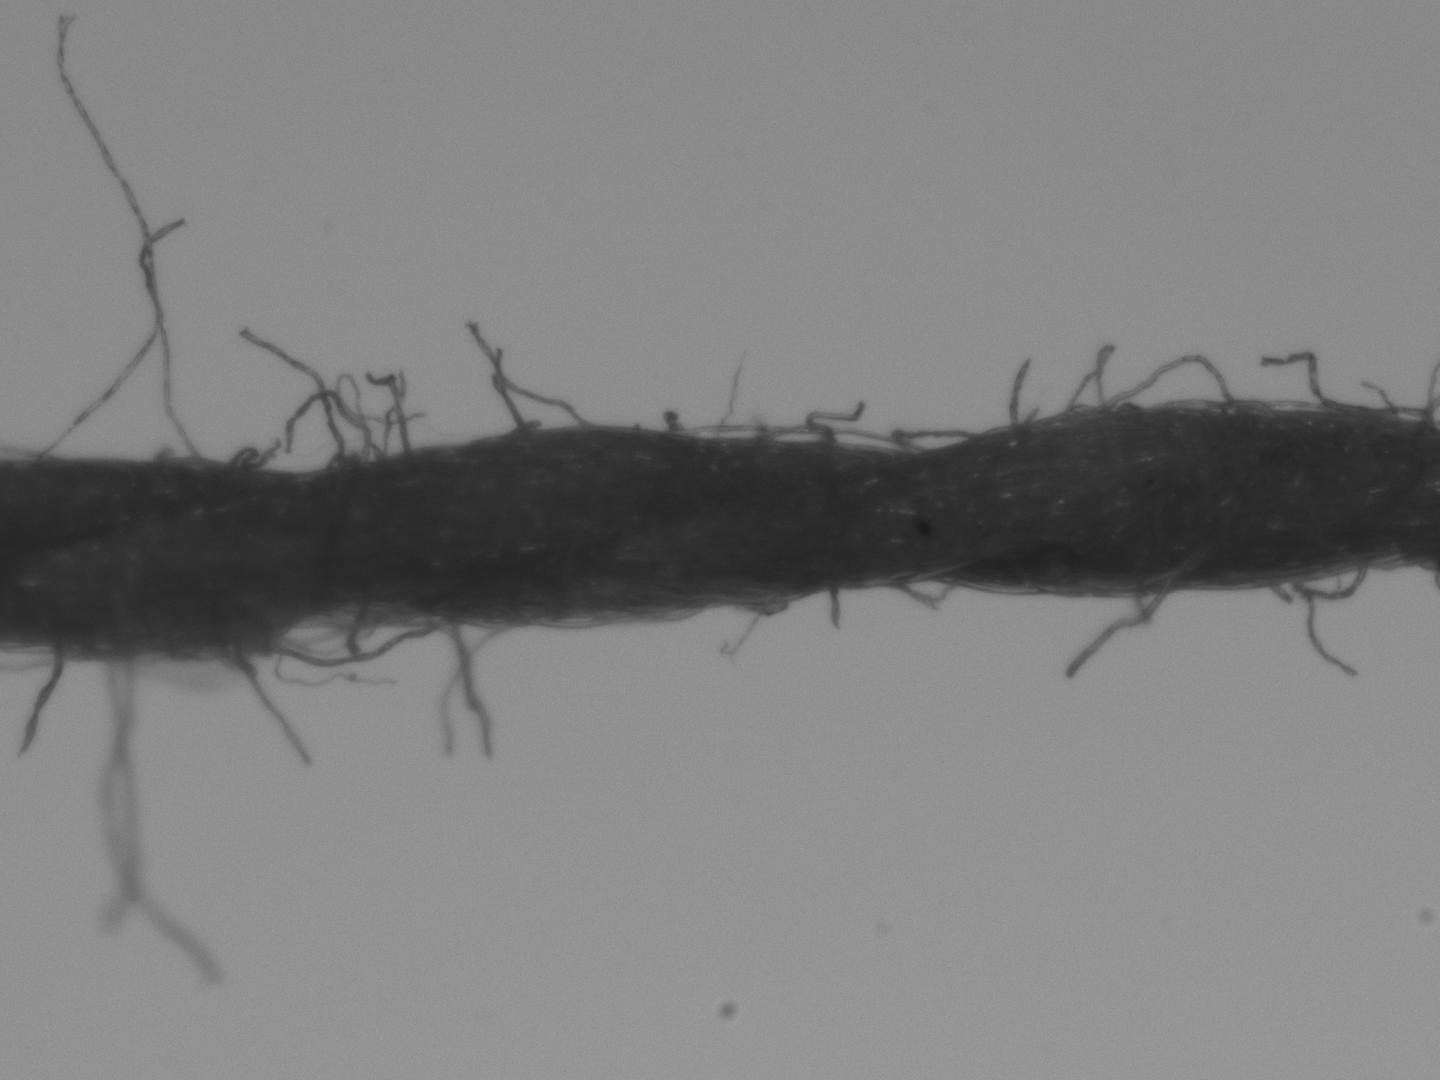loop_fiber: (266, 607, 438, 666), (1094, 354, 1229, 416), (681, 421, 914, 454), (526, 606, 622, 631), (1287, 567, 1364, 598), (898, 425, 968, 454), (893, 575, 954, 602)
protruding_fiber: (240, 326, 342, 464), (138, 219, 196, 462), (1062, 597, 1157, 677), (443, 616, 486, 757), (18, 642, 62, 752), (1007, 358, 1034, 431), (825, 585, 838, 626)
